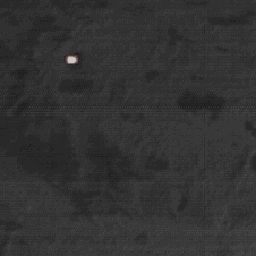Target: (65, 55, 79, 65)
